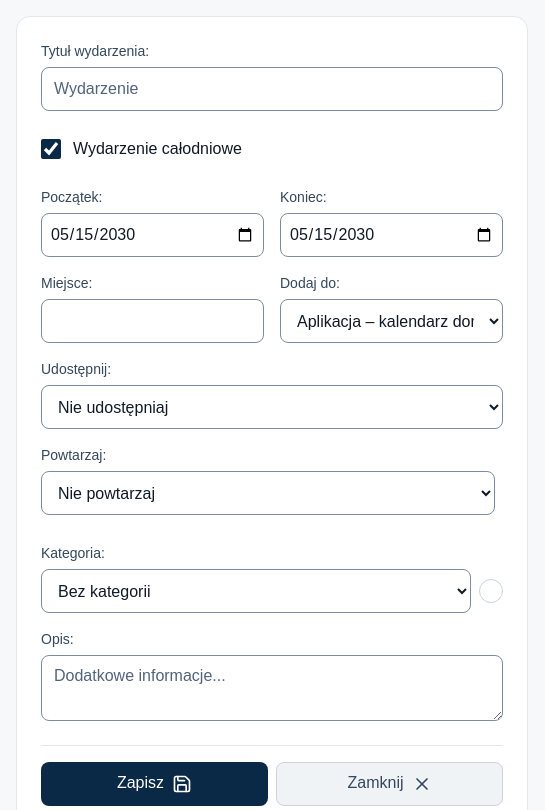
Test: EventForm – godziny wydarzenia › zmiana „Od” ustawia „Do” na +1 h
Click the checkbox labelled "Wydarzenie całodniowe": (51, 149) [41,139,61,159]
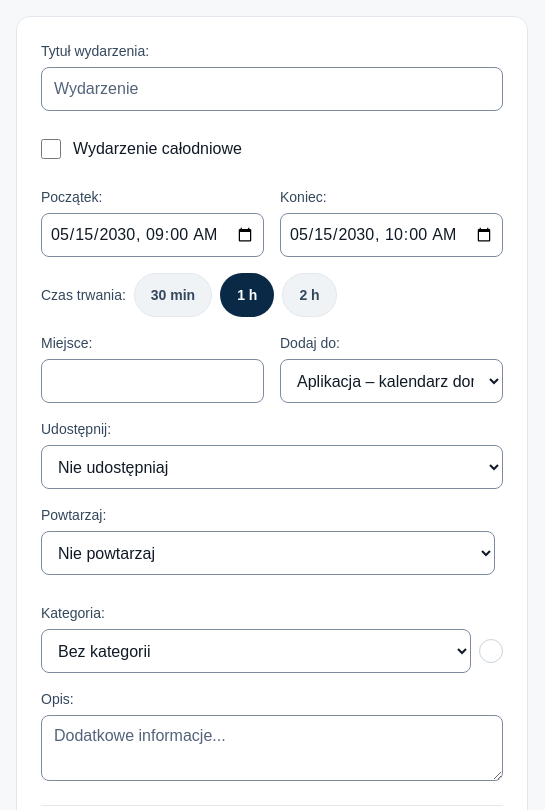
Replace the text in the field labelled "Początek:" with "2030-05-15T14:30": (152, 235) [41,213,264,257]
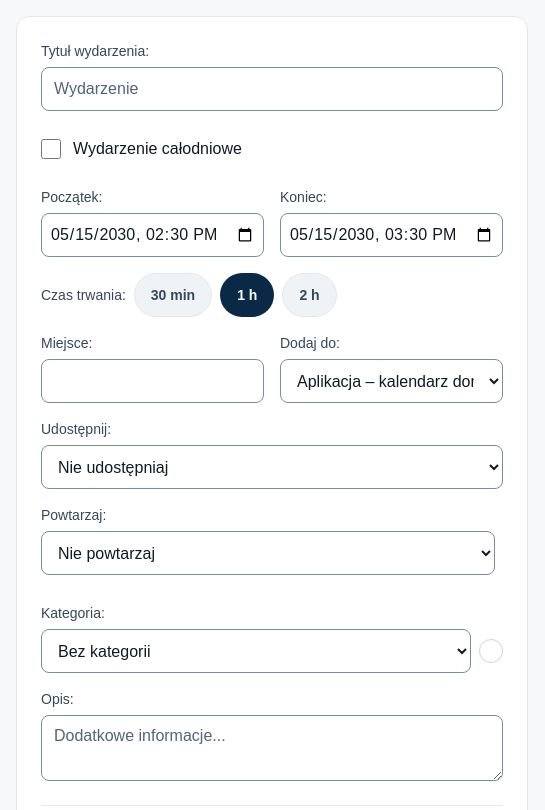
Result: the field labelled "Koniec:" holds "2030-05-15T15:30" at [280,213,503,257]
